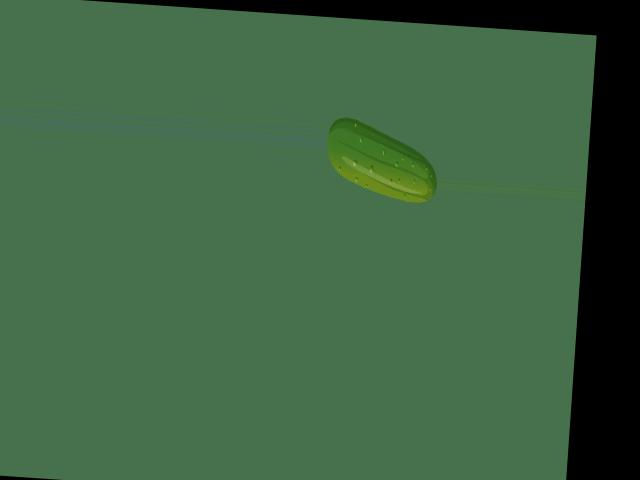cucumber: (323, 116, 440, 203)
